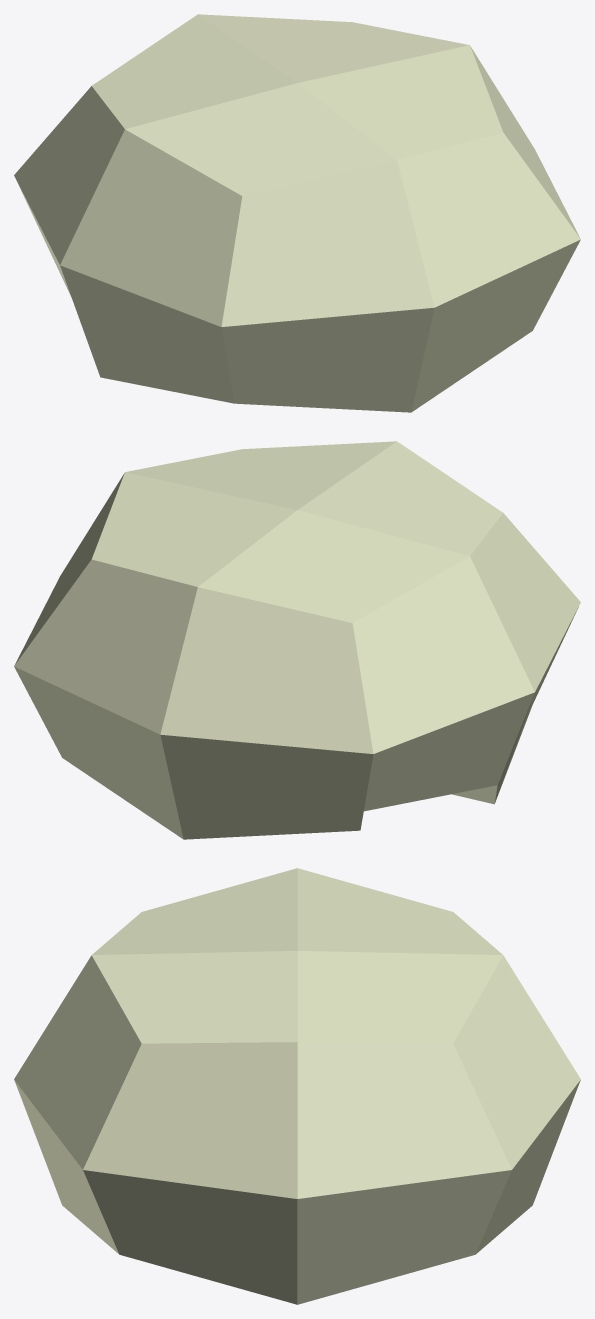
The model's file is FireAlarm.fbx.
3 renders of one model, top to bottom at view 1: azimuth 30°, elevation 25°; view 2: azimuth 150°, elevation 25°; view 3: azimuth 270°, elevation 25°, orthographic. The views are drawn at different scales.
Parts seen in each view (by area): view 1: FireAlarm; view 2: FireAlarm; view 3: FireAlarm.
Boxes of the visible parts, left/top/right/bottom form: FireAlarm: left=14, top=14, right=580, bottom=412; FireAlarm: left=14, top=441, right=580, bottom=839; FireAlarm: left=14, top=868, right=580, bottom=1304.
Size of the model in its own units: 12 by 6.53 by 12.
